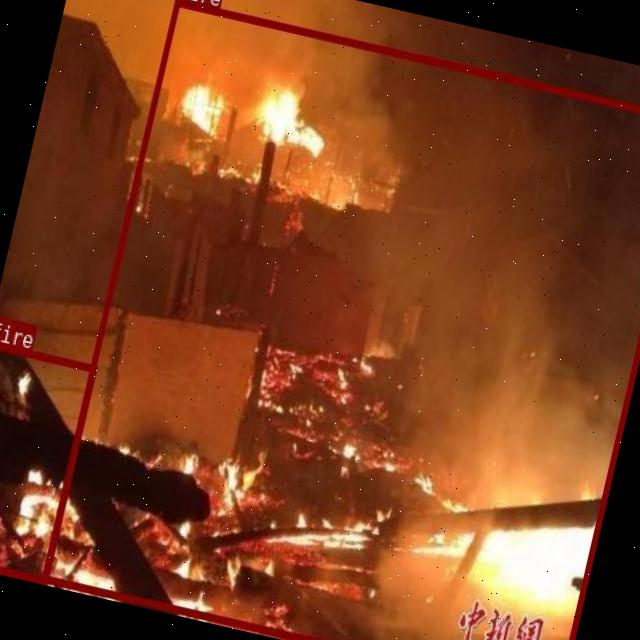fire: (39, 0, 640, 640), (0, 338, 95, 581)
